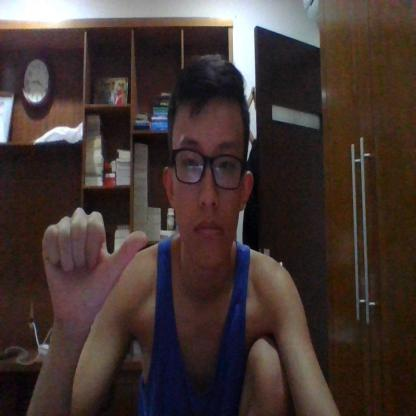left: (41, 202, 147, 324)
